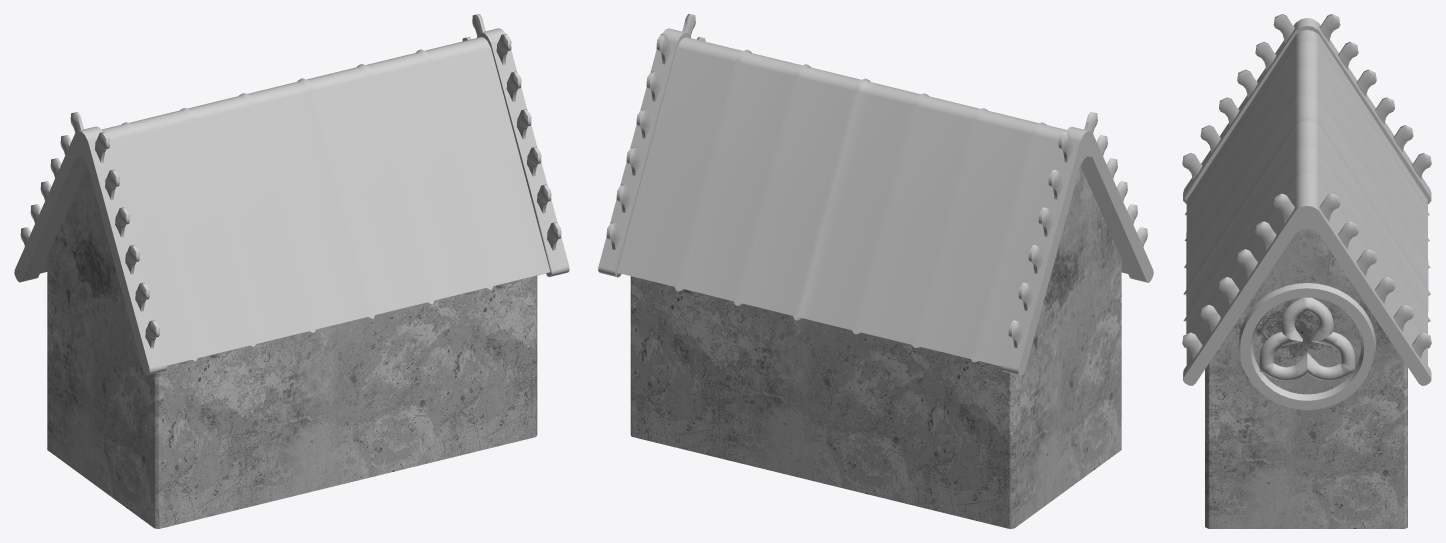
File: SM_ButtressPier_02a.fbx
The picture shows the model from 3 angles, left to right: view 1: azimuth 30°, elevation 25°; view 2: azimuth 150°, elevation 25°; view 3: azimuth 270°, elevation 25°; orthographic projection. The views are drawn at different scales.
Visible parts, largest first — view 1: SM_ButtressPier_02a_LOD0; view 2: SM_ButtressPier_02a_LOD0; view 3: SM_ButtressPier_02a_LOD0.
Boxes of the visible parts, x1,y1,x2,y2 form: SM_ButtressPier_02a_LOD0: [14, 14, 569, 528]; SM_ButtressPier_02a_LOD0: [598, 14, 1153, 528]; SM_ButtressPier_02a_LOD0: [1182, 14, 1431, 528].
Bounding box in the file's own units: 554 × 311 × 465.
